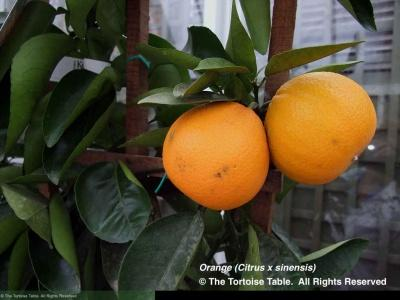Healthy Citrus: (2, 185, 83, 290), (58, 67, 119, 180), (128, 214, 204, 293), (75, 164, 150, 235), (116, 225, 196, 290), (47, 71, 103, 152), (11, 42, 49, 159), (264, 39, 361, 76), (224, 3, 259, 79)
